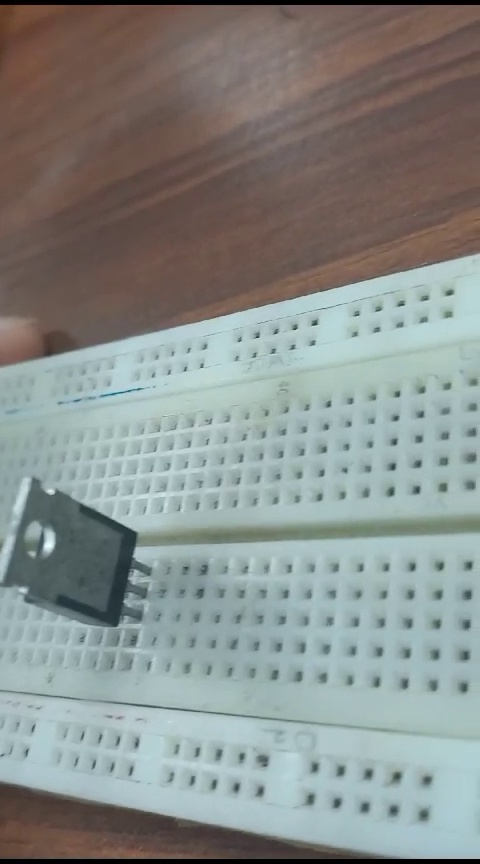voltage regulator: (8, 468, 158, 632)
